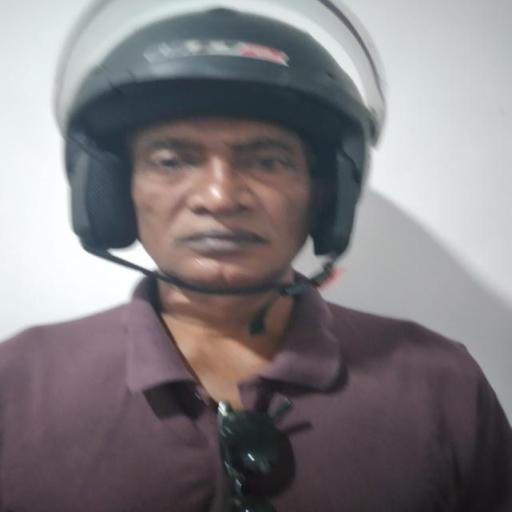with helmet: (52, 0, 389, 258)
